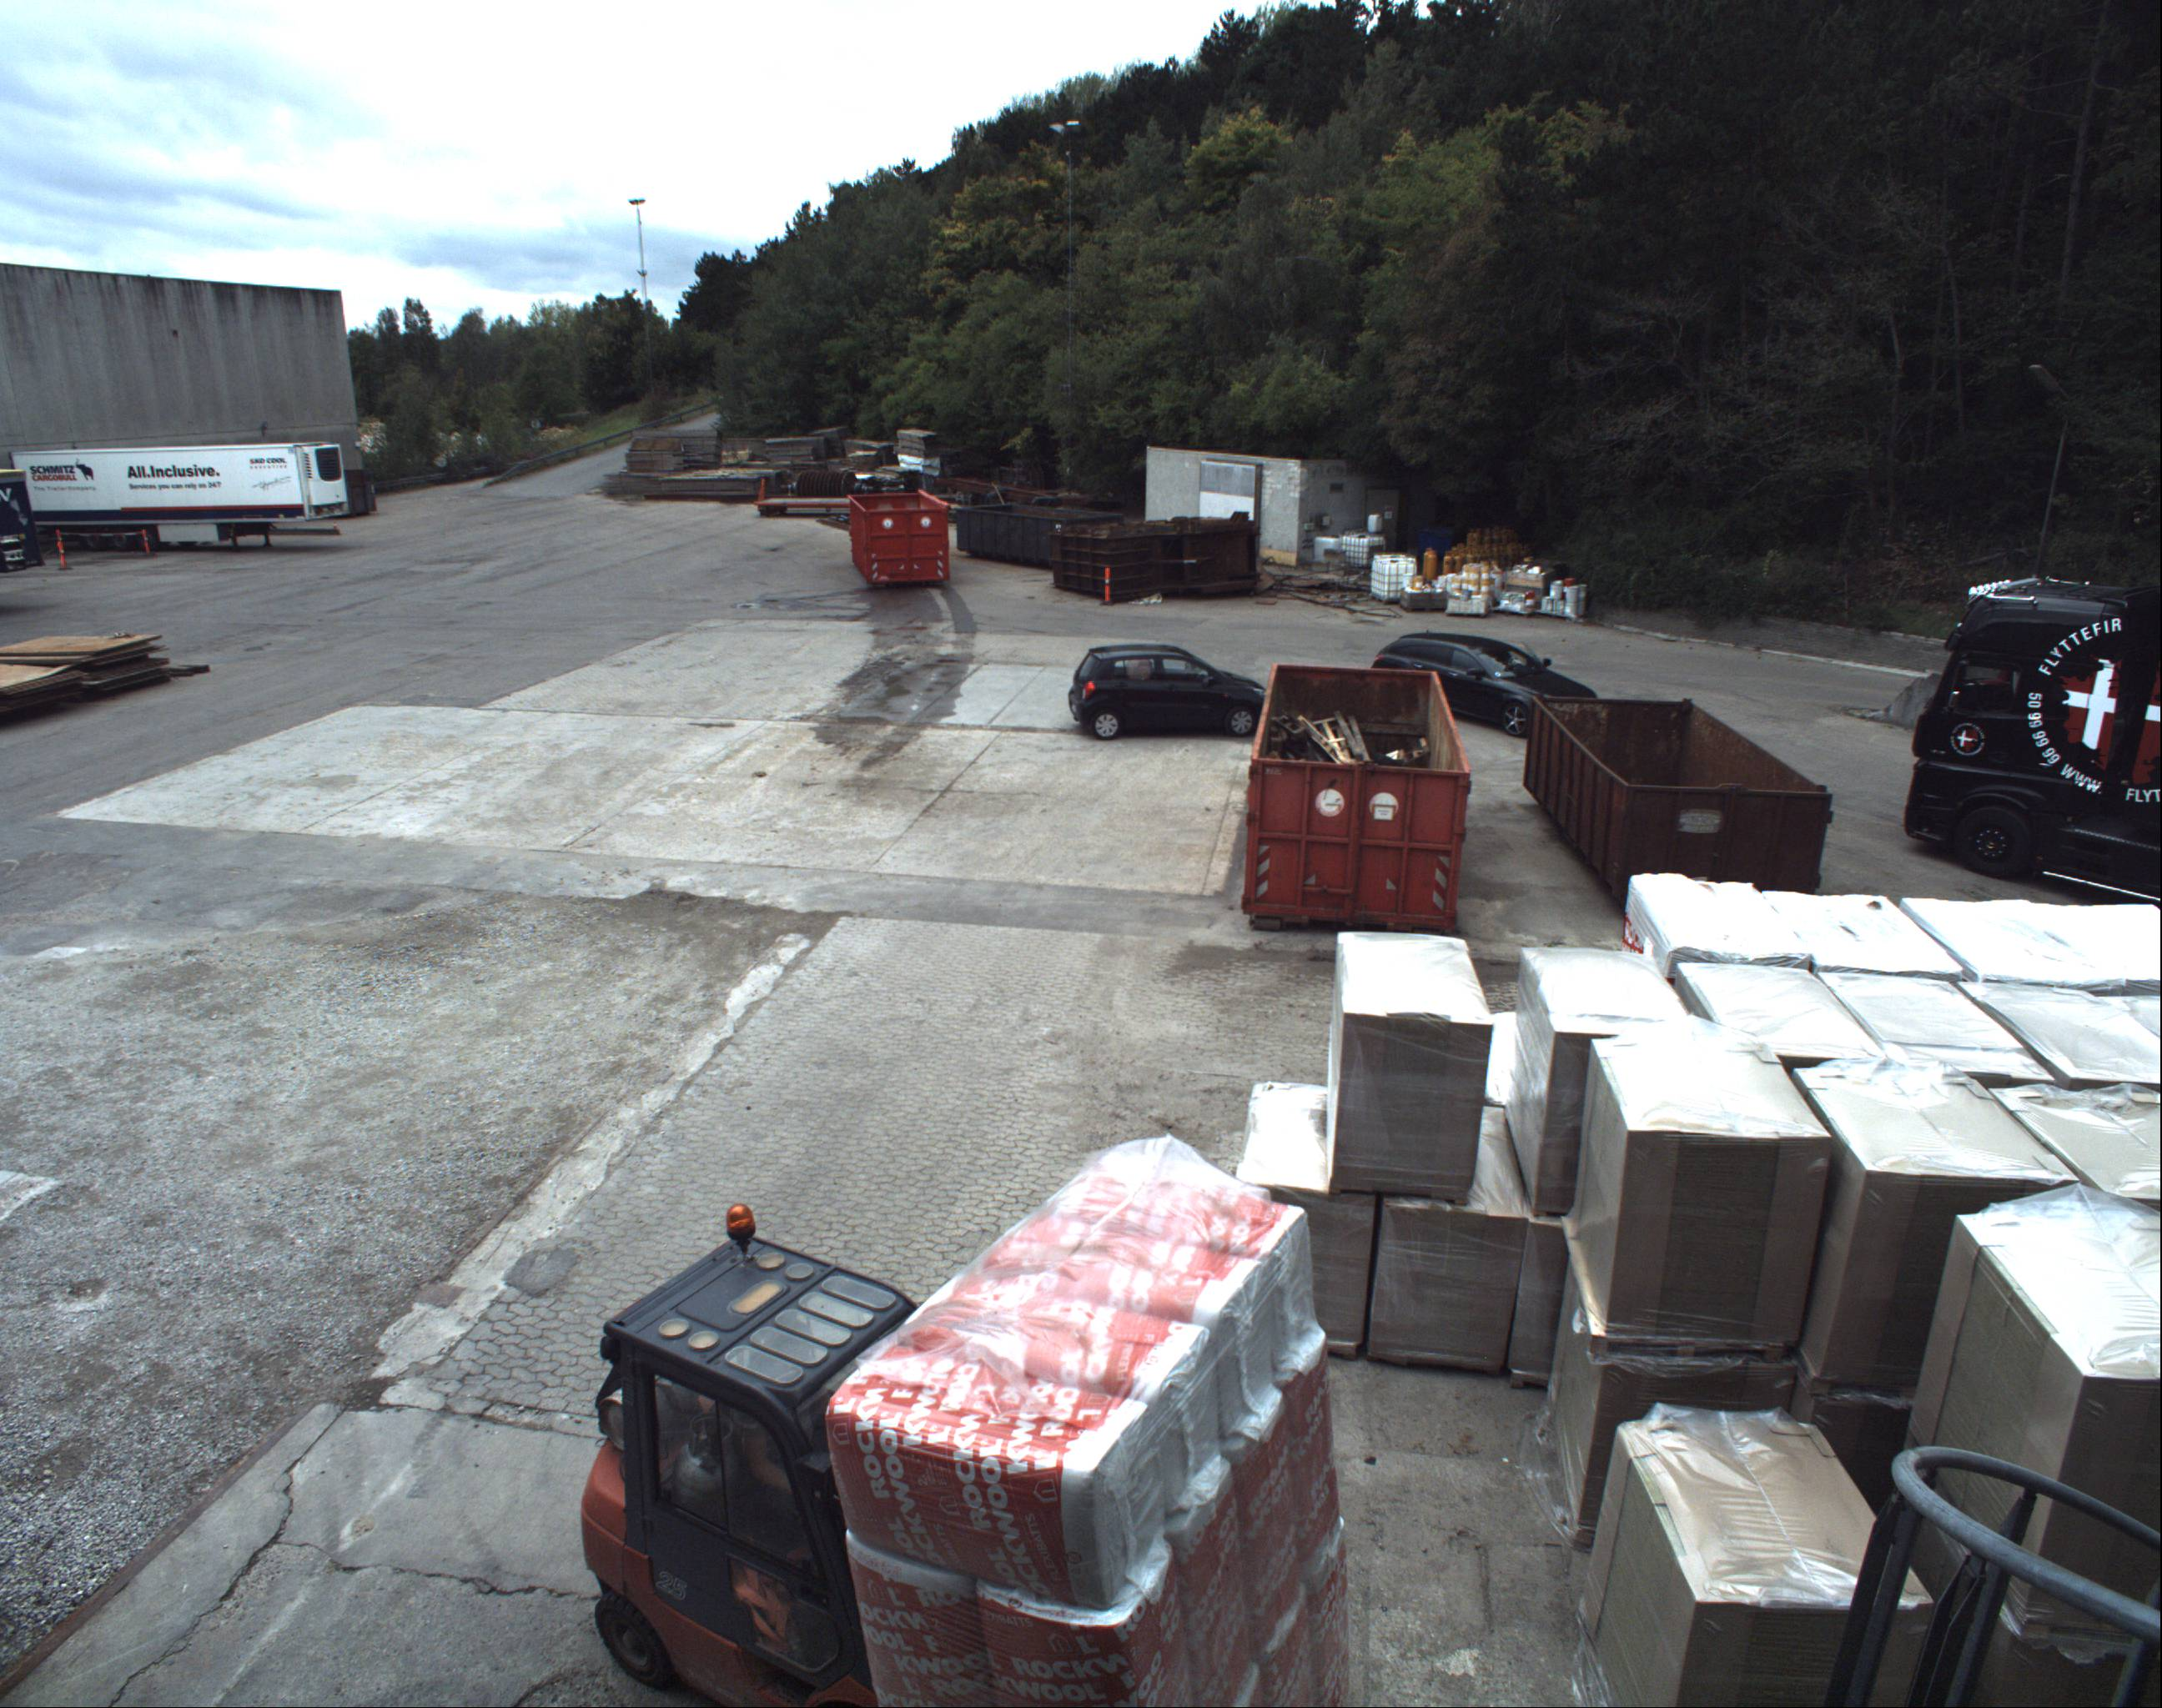rockwool_batts: (828, 1155, 1341, 1703)
